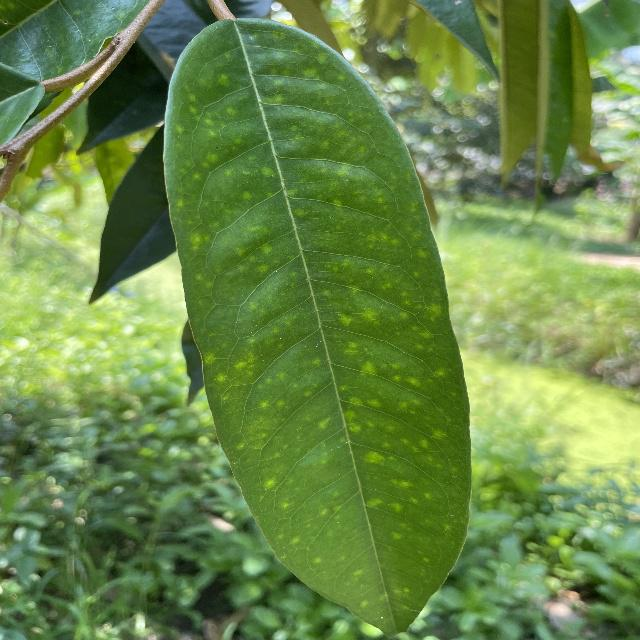Leaf Spot: (155, 11, 486, 639)
